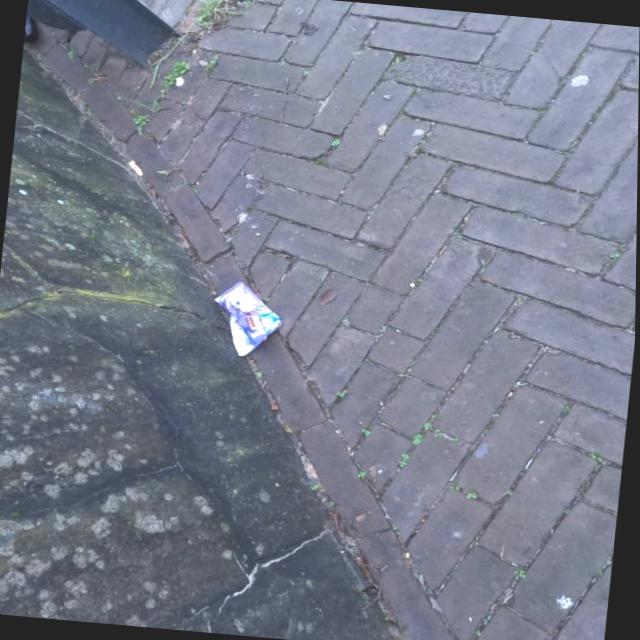Plastic: (207, 280, 288, 360)
